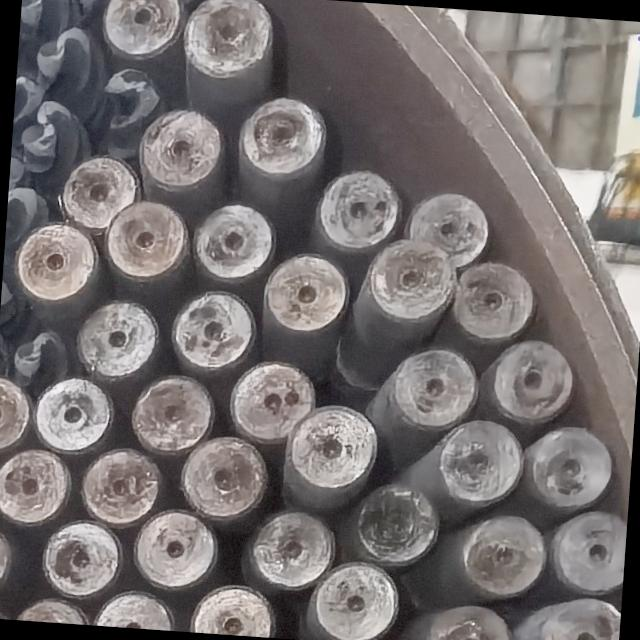tool: (484, 335, 582, 425), (362, 236, 459, 324), (234, 507, 334, 592), (176, 432, 268, 520), (439, 415, 525, 507), (288, 404, 378, 491), (226, 359, 317, 444), (124, 370, 216, 454), (105, 196, 192, 284), (309, 556, 400, 640), (182, 0, 277, 80), (264, 250, 352, 336), (130, 509, 220, 593), (354, 478, 438, 568), (460, 513, 548, 597), (314, 168, 402, 252), (388, 348, 478, 430), (238, 94, 328, 176), (530, 425, 616, 509), (188, 202, 272, 286), (36, 518, 120, 601), (172, 287, 258, 368), (14, 221, 99, 302), (80, 443, 162, 526), (140, 104, 222, 187), (33, 375, 114, 455), (551, 507, 627, 592), (80, 298, 160, 378), (56, 154, 138, 232), (410, 190, 490, 268), (0, 444, 73, 526), (452, 268, 532, 339), (181, 580, 277, 638), (98, 0, 182, 59), (537, 591, 619, 640), (88, 588, 176, 630), (423, 603, 514, 640), (0, 376, 31, 454), (16, 598, 86, 624), (0, 524, 15, 606)
tool_b: (18, 100, 82, 160), (34, 22, 96, 82), (5, 168, 51, 240), (100, 66, 160, 120), (16, 327, 64, 373), (20, 0, 79, 31), (13, 75, 43, 126)
